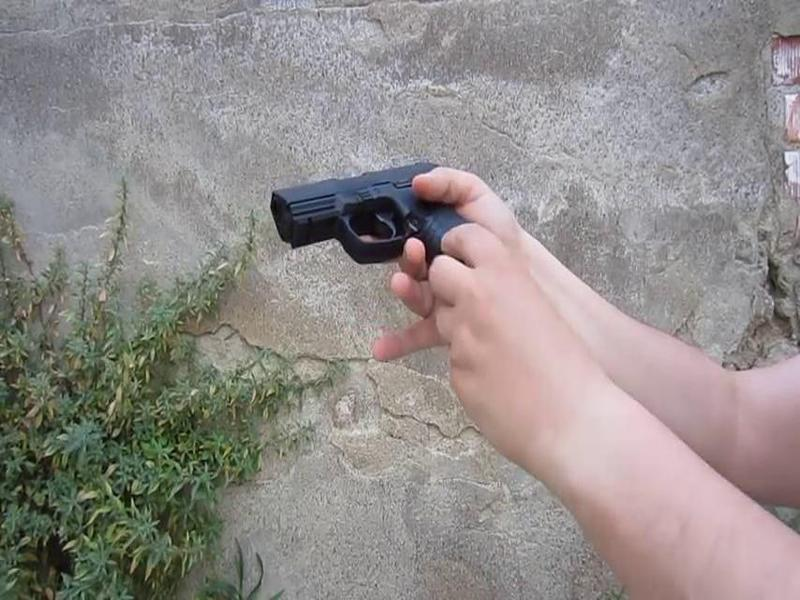Pistola: (251, 173, 516, 268)
